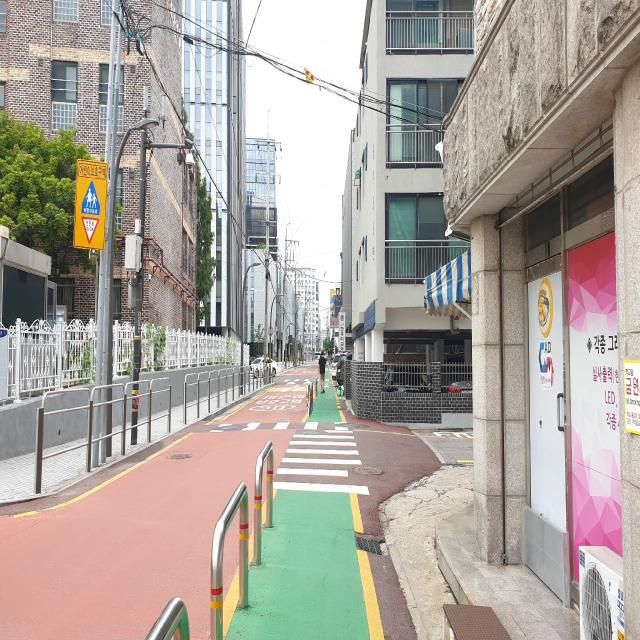횡단보도: (273, 429, 370, 496)
